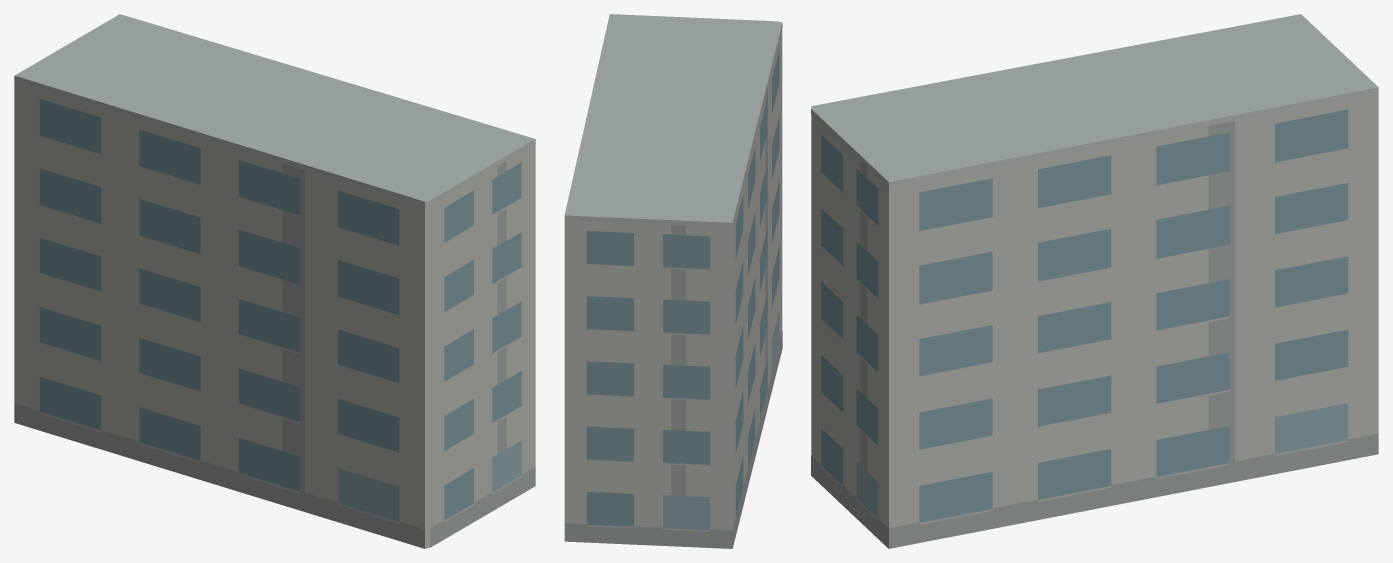
The model's file is survey-upis-32921976.glb.
3 views of the same model, side by side, from view 1: azimuth 30°, elevation 25°; view 2: azimuth 150°, elevation 25°; view 3: azimuth 270°, elevation 25° (orthographic). The views are drawn at different scales.
Visible parts, largest first — view 1: survey-upis-32921976.tmp; view 2: survey-upis-32921976.tmp; view 3: survey-upis-32921976.tmp.
Boxes of the visible parts, x1=… form: survey-upis-32921976.tmp: x1=14, y1=14, x2=535, y2=548; survey-upis-32921976.tmp: x1=564, y1=14, x2=782, y2=548; survey-upis-32921976.tmp: x1=811, y1=14, x2=1378, y2=548.
Bounding box in the file's own units: 16.22 × 16.5 × 23.14.
